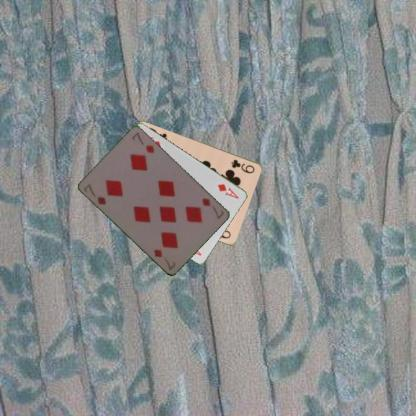7d: (82, 181, 108, 206), (200, 196, 225, 220)
9c: (229, 156, 256, 174)
Ad: (216, 181, 240, 200)
